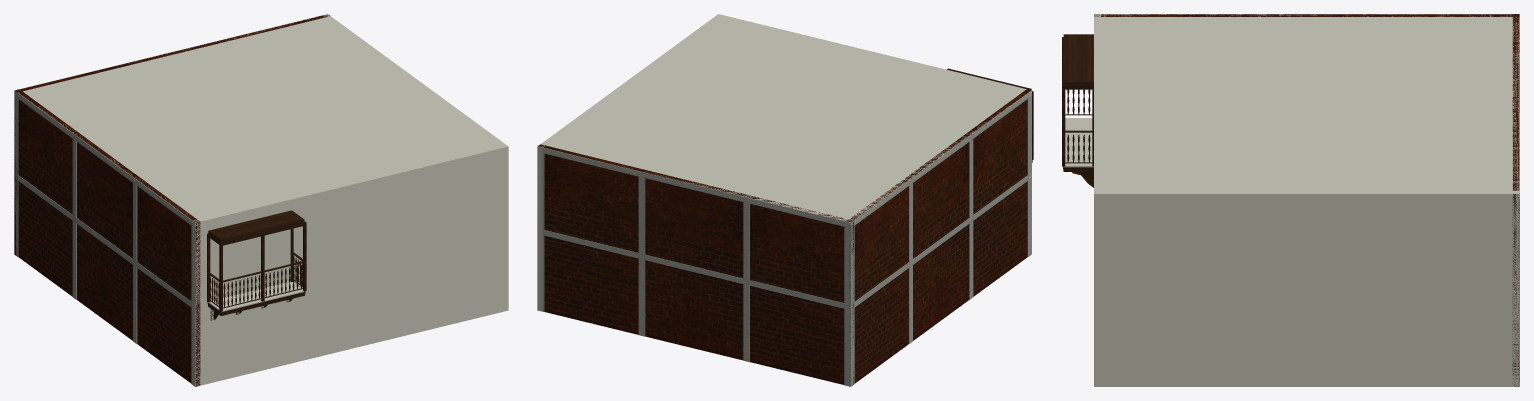
File: building.glb
3 views of the same model, side by side, from view 1: azimuth 30°, elevation 25°; view 2: azimuth 150°, elevation 25°; view 3: azimuth 270°, elevation 25° (orthographic). The views are drawn at different scales.
Parts seen in each view (by area): view 1: roof/house:0/roof_slab#0001, house:0/edge0/z0/house:0/edge0/z0/wall_0_0, house:0/edge3/z0/house:0/edge3/z0/wall_0_0, balcony/sample/balcony_cover#0001, house:0/edge2/z0/house:0/edge2/z0/wall_0_0, house:0/edge3/z0/house:0/edge3/z0/beam_0_0, house:0/edge3/z0/house:0/edge3/z0/beam_1_0, house:0/edge1/z0/house:0/edge1/z0/wall_0_0, balcony/sample/balcony_platform#0001, balcony/sample/balcony_fascia#0001; view 2: roof/house:0/roof_slab#0001, house:0/edge2/z0/house:0/edge2/z0/wall_0_0, house:0/edge3/z0/house:0/edge3/z0/wall_0_0, house:0/edge1/z0/house:0/edge1/z0/wall_0_0, house:0/edge2/z0/house:0/edge2/z0/beam_0_0, house:0/edge2/z0/house:0/edge2/z0/beam_1_0, house:0/edge3/z0/house:0/edge3/z0/beam_0_0, house:0/edge0/z0/house:0/edge0/z0/wall_0_0, house:0/edge3/z0/house:0/edge3/z0/beam_1_0, house:0/edge2/z0/house:0/edge2/z0/column_2_0, house:0/edge2/z0/house:0/edge2/z0/column_1_1, house:0/edge2/z0/house:0/edge2/z0/column_2_1 (+3 smaller); view 3: house:0/edge1/z0/house:0/edge1/z0/wall_0_0, roof/house:0/roof_slab#0001, house:0/edge0/z0/house:0/edge0/z0/wall_0_0, house:0/edge2/z0/house:0/edge2/z0/wall_0_0, balcony/sample/balcony_cover#0001, house:0/edge3/z0/house:0/edge3/z0/wall_0_0, balcony/sample/balcony_platform#0001.
Boxes of the visible parts, box(x1,y1,x2,y2) form: roof/house:0/roof_slab#0001: box(16, 15, 507, 225); house:0/edge0/z0/house:0/edge0/z0/wall_0_0: box(192, 144, 508, 386); house:0/edge3/z0/house:0/edge3/z0/wall_0_0: box(17, 89, 200, 386); balcony/sample/balcony_cover#0001: box(208, 210, 304, 242); house:0/edge2/z0/house:0/edge2/z0/wall_0_0: box(14, 14, 329, 255); house:0/edge3/z0/house:0/edge3/z0/beam_0_0: box(14, 173, 195, 309); house:0/edge3/z0/house:0/edge3/z0/beam_1_0: box(14, 91, 195, 228); house:0/edge1/z0/house:0/edge1/z0/wall_0_0: box(323, 14, 508, 311); balcony/sample/balcony_platform#0001: box(208, 281, 304, 312); balcony/sample/balcony_fascia#0001: box(207, 291, 305, 315); roof/house:0/roof_slab#0001: box(540, 14, 1031, 225); house:0/edge2/z0/house:0/edge2/z0/wall_0_0: box(538, 144, 853, 384); house:0/edge3/z0/house:0/edge3/z0/wall_0_0: box(846, 89, 1030, 383); house:0/edge1/z0/house:0/edge1/z0/wall_0_0: box(537, 14, 721, 311); house:0/edge2/z0/house:0/edge2/z0/beam_0_0: box(542, 230, 851, 310); house:0/edge2/z0/house:0/edge2/z0/beam_1_0: box(538, 146, 851, 228); house:0/edge3/z0/house:0/edge3/z0/beam_0_0: box(850, 172, 1031, 309); house:0/edge0/z0/house:0/edge0/z0/wall_0_0: box(716, 14, 1031, 253); house:0/edge3/z0/house:0/edge3/z0/beam_1_0: box(850, 90, 1031, 227); house:0/edge2/z0/house:0/edge2/z0/column_2_0: box(638, 177, 645, 254); house:0/edge2/z0/house:0/edge2/z0/column_1_1: box(844, 227, 851, 304); house:0/edge2/z0/house:0/edge2/z0/column_2_1: box(638, 259, 645, 336); house:0/edge1/z0/house:0/edge1/z0/wall_0_0: box(1094, 191, 1519, 386); roof/house:0/roof_slab#0001: box(1094, 14, 1519, 198); house:0/edge0/z0/house:0/edge0/z0/wall_0_0: box(1094, 14, 1100, 386); house:0/edge2/z0/house:0/edge2/z0/wall_0_0: box(1512, 14, 1519, 386); balcony/sample/balcony_cover#0001: box(1063, 34, 1093, 85); house:0/edge3/z0/house:0/edge3/z0/wall_0_0: box(1094, 14, 1519, 16); balcony/sample/balcony_platform#0001: box(1064, 118, 1093, 167).
Size of the model in its own units: 12 by 6 by 12.89.
Materials: 4 (2 with a texture image).
